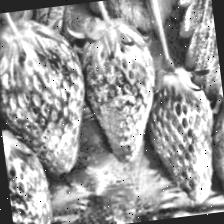Powdery Mildew Fruit: (0, 14, 93, 180), (72, 14, 167, 168), (1, 120, 55, 224), (156, 131, 222, 208), (207, 129, 224, 209)
